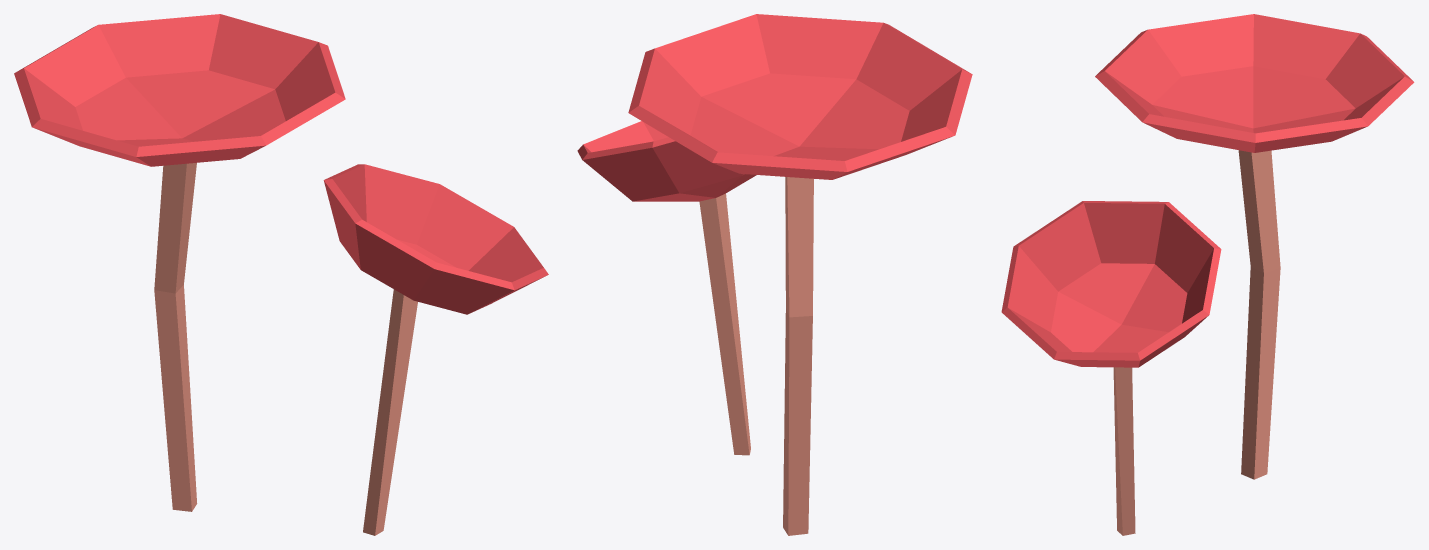
Rendered from Mushroom_d_06.fbx.
3 renders of one model, left to right at view 1: azimuth 30°, elevation 25°; view 2: azimuth 150°, elevation 25°; view 3: azimuth 270°, elevation 25°, orthographic. The views are drawn at different scales.
Parts seen in each view (by area): view 1: Mushroom_d_06; view 2: Mushroom_d_06; view 3: Mushroom_d_06.
Boxes of the visible parts, x1,y1,x2,y2 form: Mushroom_d_06: (14,14,548,535); Mushroom_d_06: (577,14,972,535); Mushroom_d_06: (1001,14,1414,535).
Size of the model in its own units: 0.3251 by 0.3193 by 0.294.
